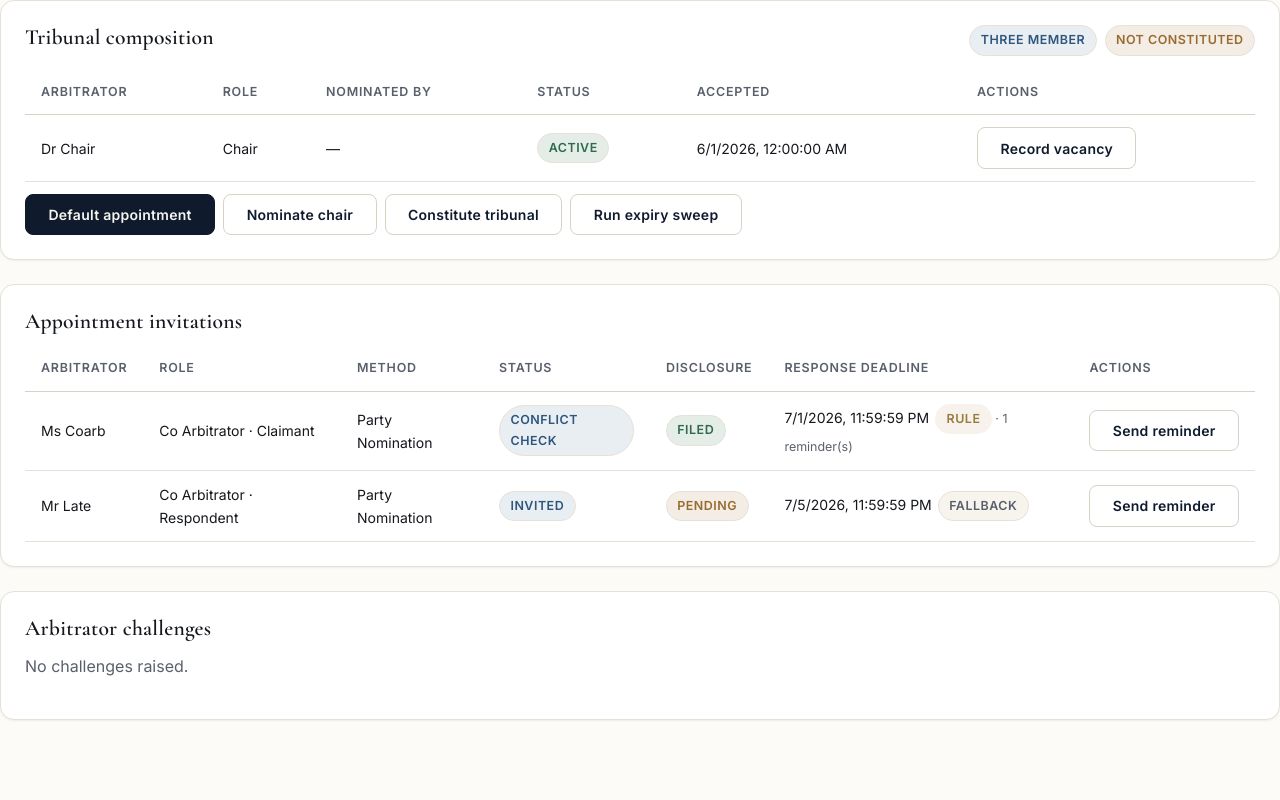
Scenario: TribunalTab — action flows › surfaces an API error (e.g. constitution blocked) as an error state
This screenshot has width=1280, height=800.
Expected: the heading "Tribunal composition" is shown, x1=25 y1=25 x2=214 y2=50
Step 1. Click the button "Constitute tribunal" → (474, 214), box x1=385 y1=194 x2=562 y2=235
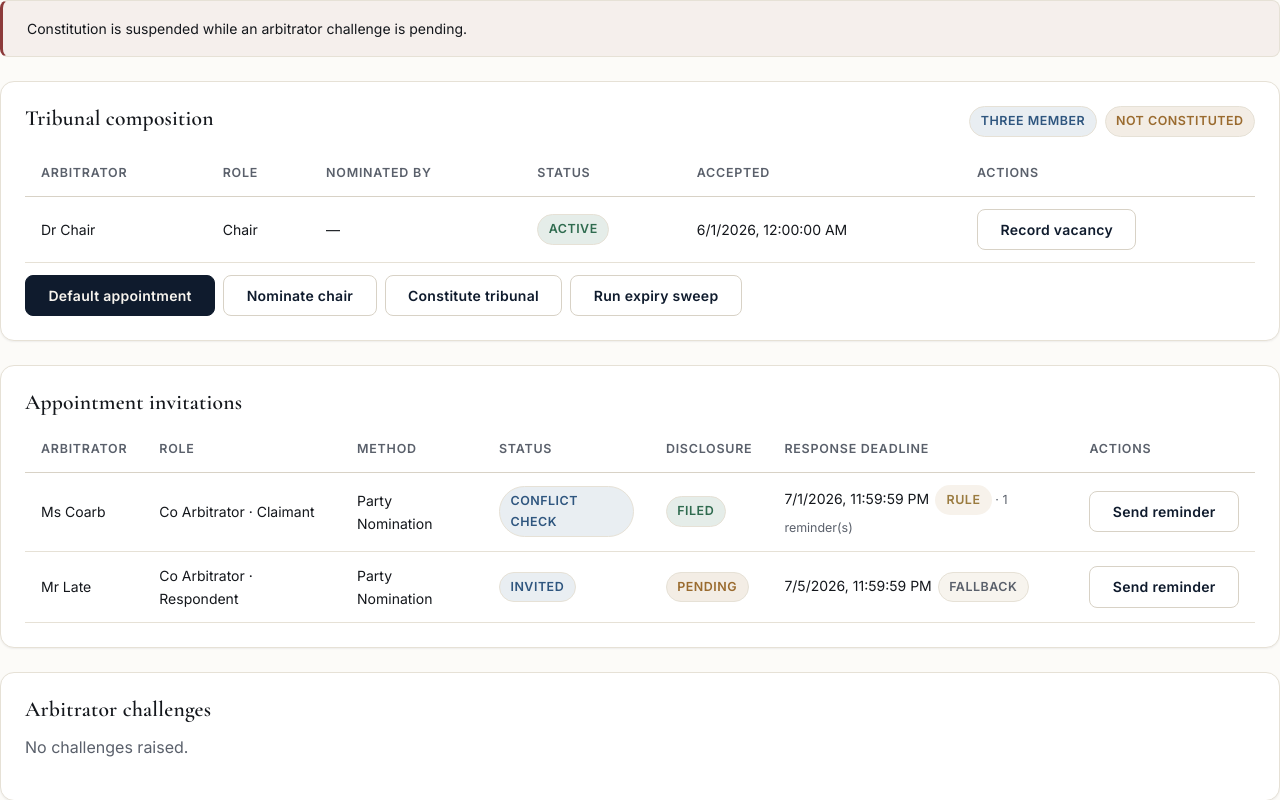
Expected: the text "Constitution is suspended while an arbitrator challenge is pending." is shown, x1=0 y1=0 x2=1279 y2=57
